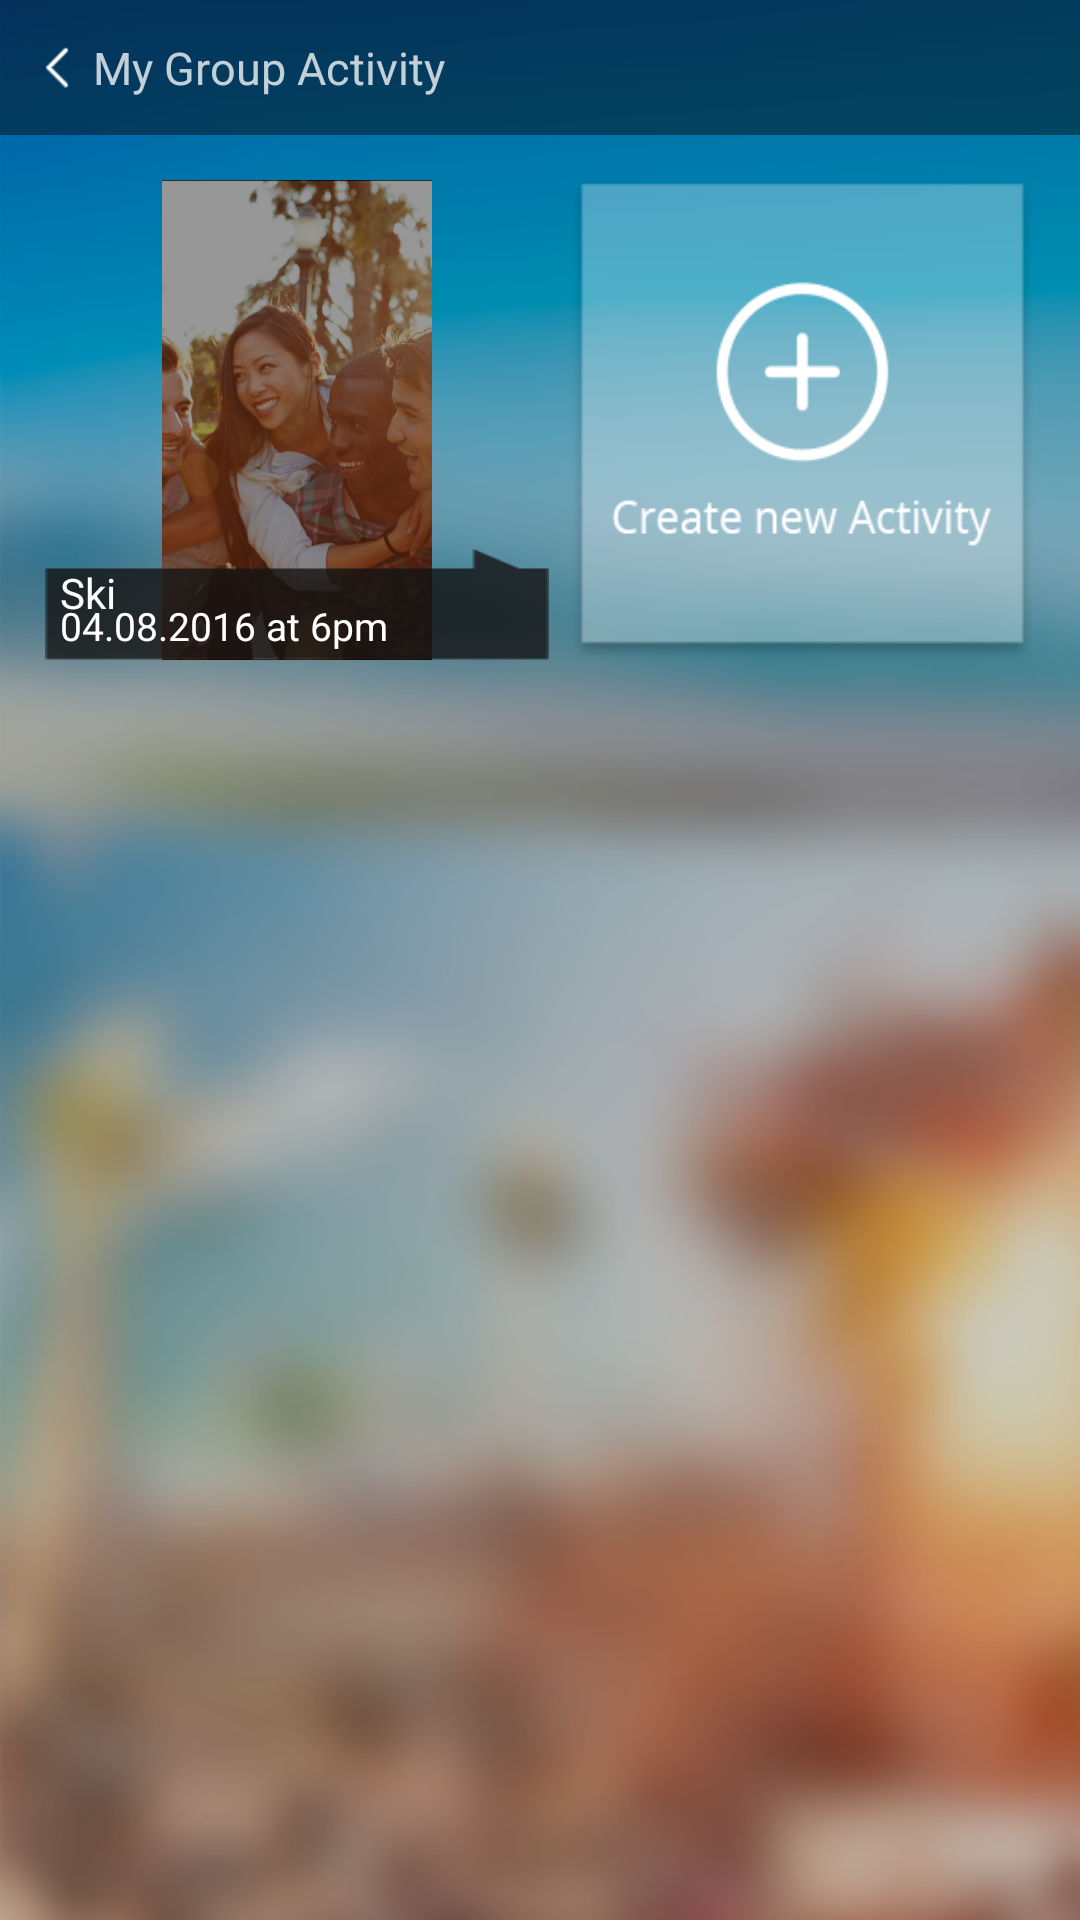

Named icons in this screenshot (1080x1920) and their centers, point (x, y):
backbtn: point (57, 67)
